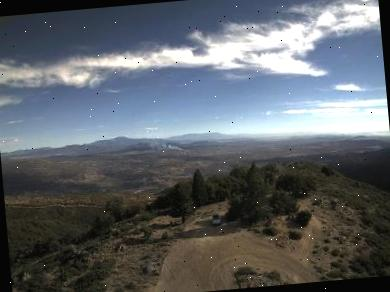smoke: (125, 134, 187, 158)
